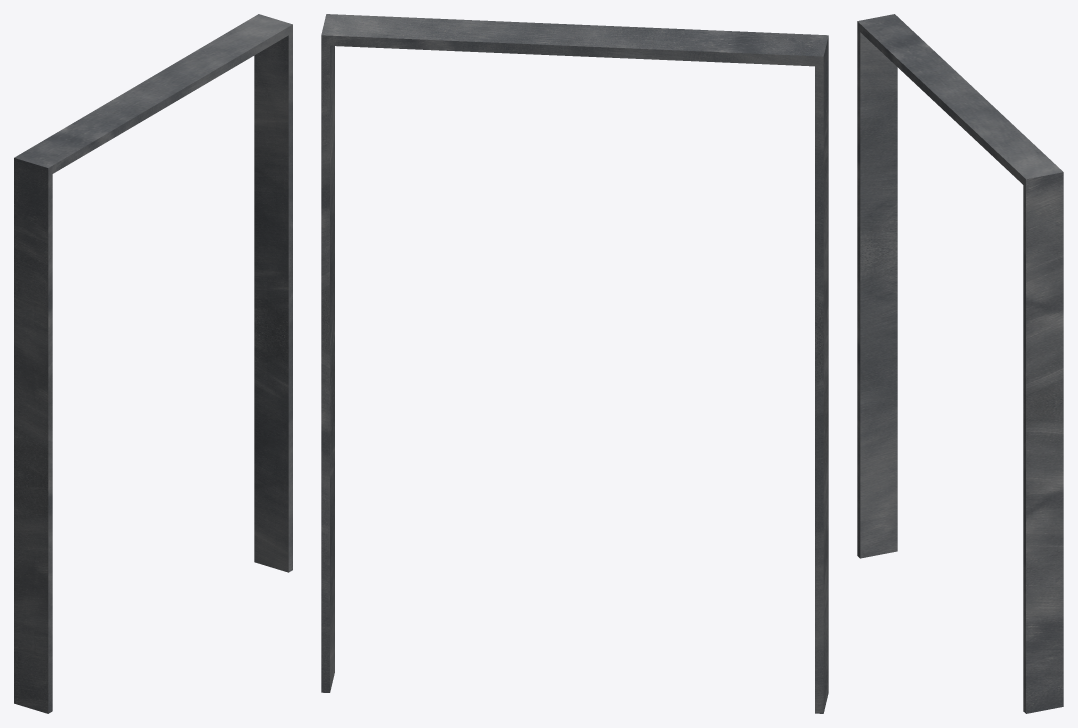
The model's file is main_door2.fbx.
3 views of the same model, side by side, from view 1: azimuth 30°, elevation 25°; view 2: azimuth 150°, elevation 25°; view 3: azimuth 270°, elevation 25° (orthographic). The views are drawn at different scales.
Visible parts, largest first — view 1: door_line; view 2: door_line; view 3: door_line.
Part boxes in pixels (x1,y1,x2,y2): door_line: (14, 14, 292, 713); door_line: (321, 14, 828, 713); door_line: (857, 14, 1063, 713).
Bounding box in the file's own units: 2.2 × 3.31 × 1.16.
